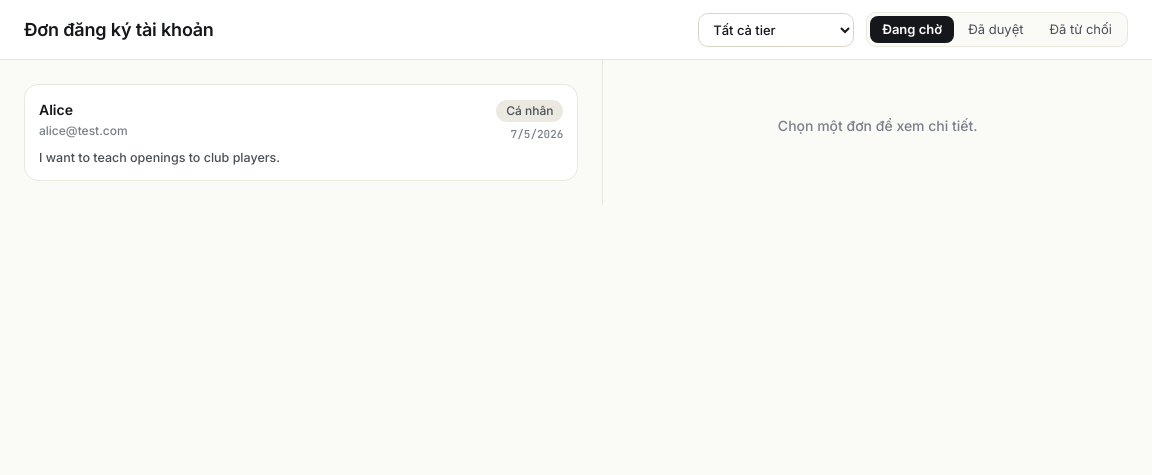
Test: AdminCreatorApplicationsPage › detail pane › does not show approve/reject buttons for non-pending applications
Click the button with test id "application-row-app-1" at (56, 110), box [24,84,578,181]
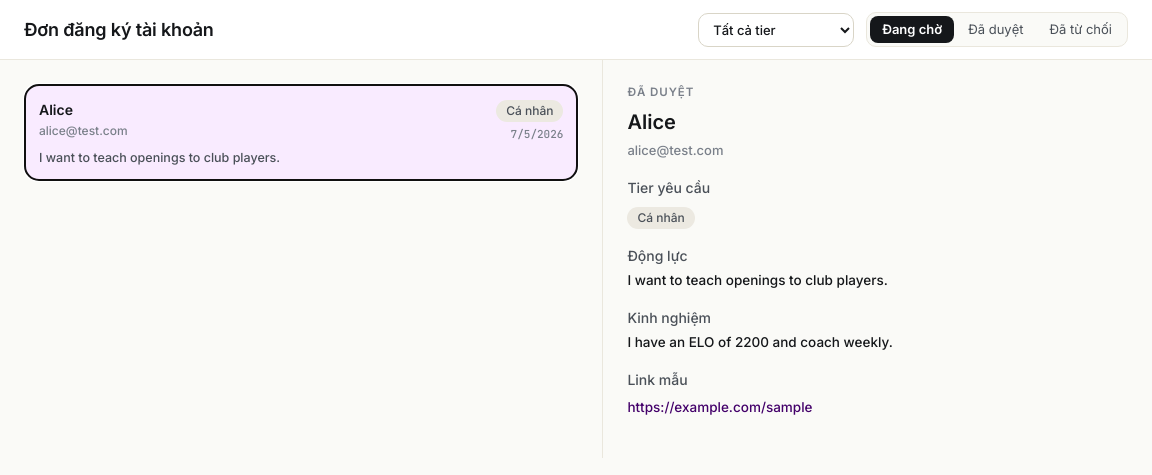
Result: the element with test id "application-detail" is shown at [627,85,893,415]
